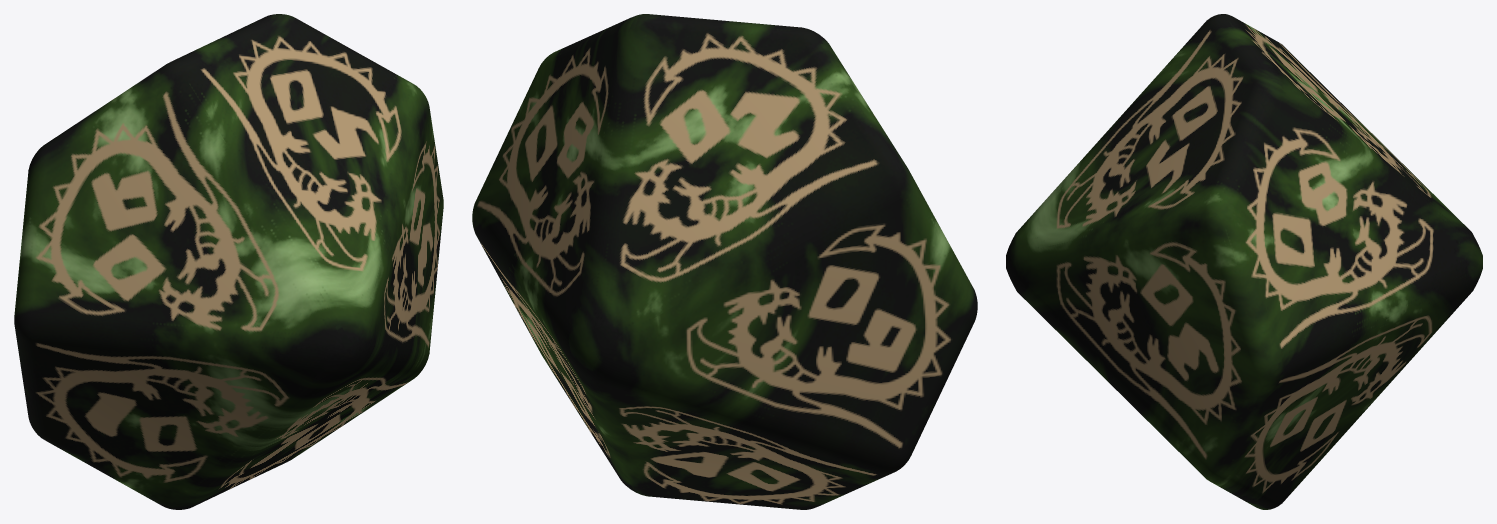
File: d100_dragons_SDRA98.glb
The picture shows the model from 3 angles, left to right: view 1: azimuth 30°, elevation 25°; view 2: azimuth 150°, elevation 25°; view 3: azimuth 270°, elevation 25°; orthographic projection. The views are drawn at different scales.
Visible parts, largest first — view 1: K10_obla_noweUV.001; view 2: K10_obla_noweUV.001; view 3: K10_obla_noweUV.001.
Part boxes in pixels (x1,y1,x2,y2): K10_obla_noweUV.001: [14, 14, 443, 509]; K10_obla_noweUV.001: [472, 14, 977, 509]; K10_obla_noweUV.001: [1006, 14, 1482, 509].
Bounding box in the file's own units: 169 × 161 × 161.
Materials: 1 (1 with a texture image).
